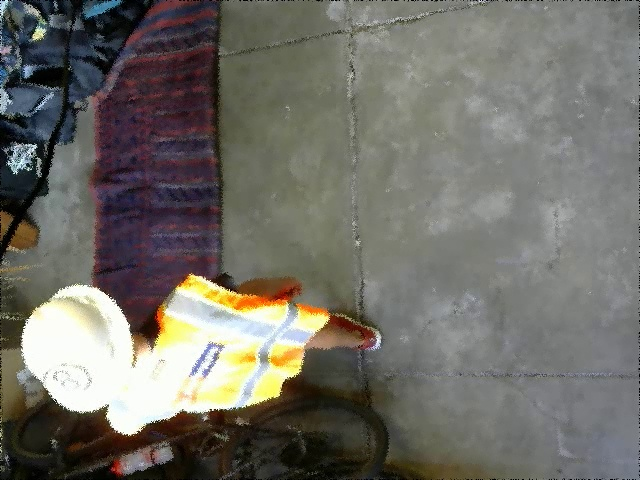eight: (45, 362, 92, 396)
